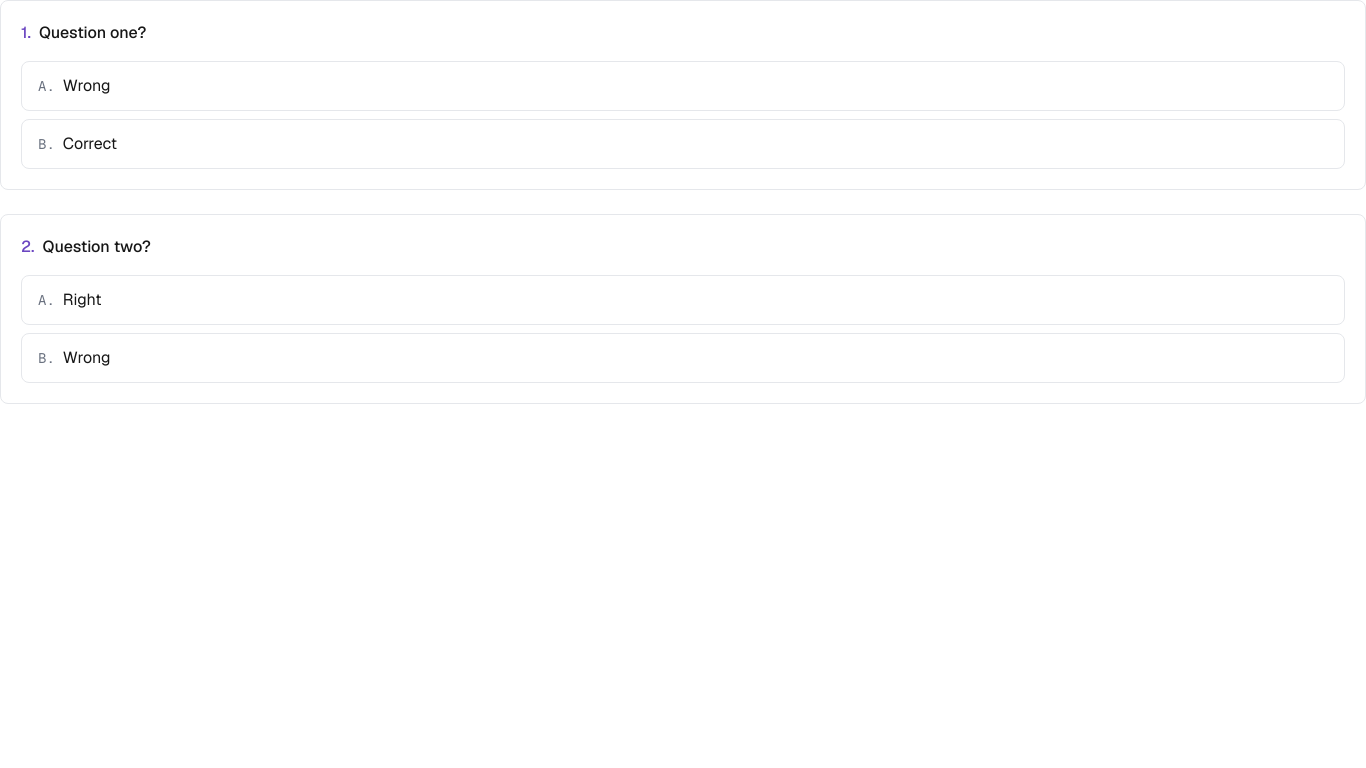
Scenario: Quiz › shows low score message when all wrong
# Click the wrong answers
What coordinates should you click on to do the following:
click the button "A.Wrong"
I would click on:
 (87, 86)
Its box is [21,61,1345,111].
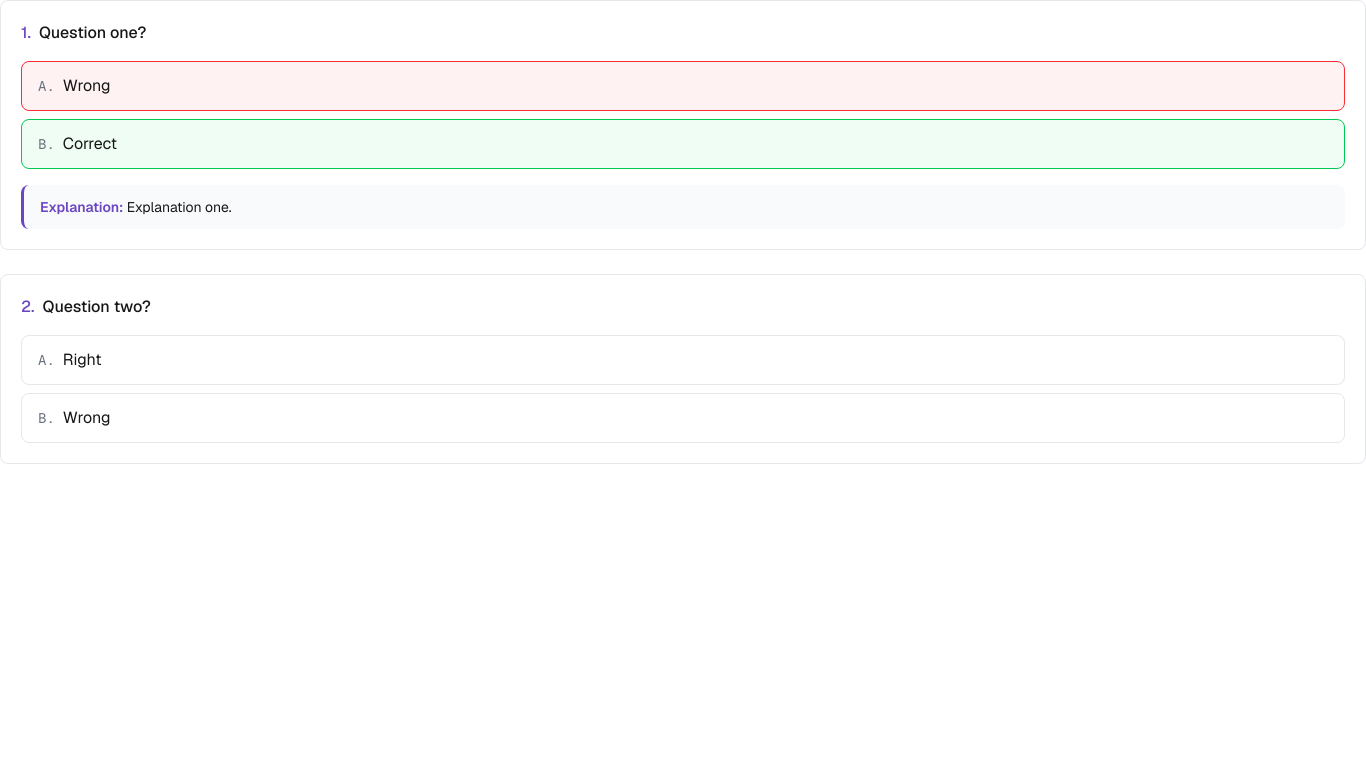
What coordinates should you click on to do the following:
click the button "B.Wrong"
I would click on:
 (87, 418)
Its box is [21,393,1345,443].
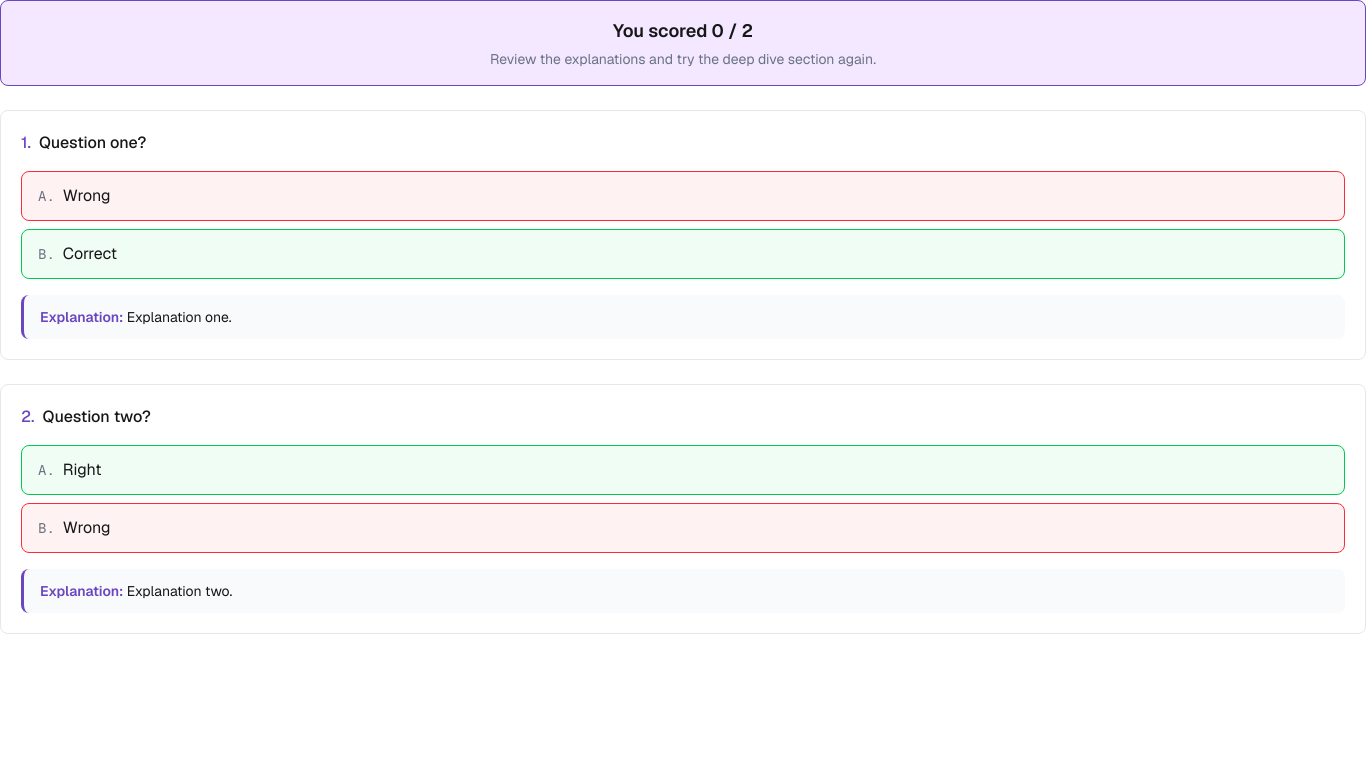
Expected: the text "You scored 0 / 2" is shown, [613,19,753,42]
Expected: the text "Review the explanations and try the deep dive section again." is shown, [490,50,876,68]
